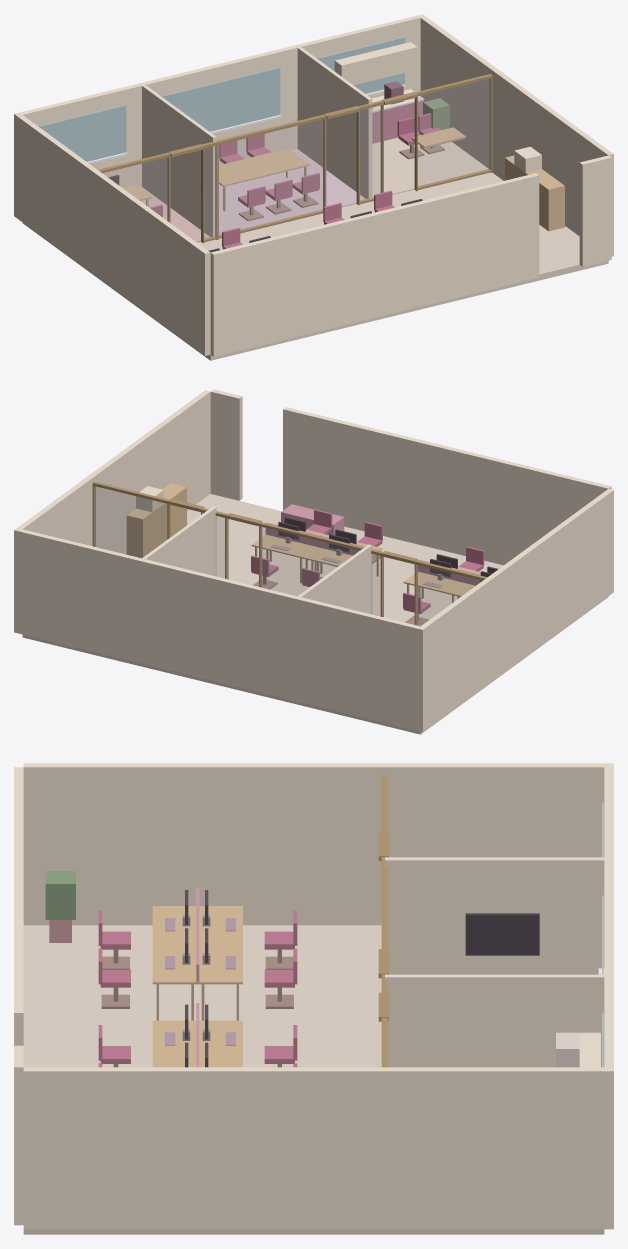
File: 사무실_모델.glb
3 renders of one model, top to bottom at view 1: azimuth 30°, elevation 25°; view 2: azimuth 150°, elevation 25°; view 3: azimuth 270°, elevation 25°, orthographic. The views are drawn at different scales.
Visible parts, largest first — view 1: 전면 벽 A, 유리 칸막이 (×5), 좌측 벽, 실간 칸막이 (×2), 우측 벽, 후면 벽, 가정 창호 (×3), 바닥, 회의실 바닥, 탕비실 바닥, 전면 벽 B, 탕비 상부장 (+8 smaller); view 2: 후면 벽, 전면 벽 A, 좌측 벽, 우측 벽, 유리 칸막이 (×5), 바닥, 실간 칸막이 (×2), 전면 벽 B, 공용 수납장, 입구 벤치, 직원 책상 8, 직원 책상 4 (+4 smaller); view 3: 우측 벽, 좌측 벽, 실간 칸막이 (×2), 바닥, 후면 벽, 회의실 화면, 전면 벽 A, 전면 벽 B, 직원 책상 3, 직원 책상 4, 식재, 직원 책상 5 (+6 smaller).
Part boxes in pixels (x1,y1,x2,y2): 전면 벽 A: [210, 173, 539, 356]; 유리 칸막이 (×5): [103, 79, 490, 237]; 좌측 벽: [17, 115, 210, 355]; 실간 칸막이 (×2): [142, 47, 372, 237]; 우측 벽: [420, 16, 613, 256]; 후면 벽: [14, 14, 425, 217]; 가정 창호 (×3): [39, 37, 404, 161]; 바닥: [23, 172, 608, 360]; 회의실 바닥: [219, 149, 365, 234]; 탕비실 바닥: [372, 132, 488, 197]; 전면 벽 B: [579, 155, 611, 266]; 탕비 상부장: [334, 42, 417, 85]; 후면 벽: [14, 528, 425, 731]; 전면 벽 A: [283, 407, 611, 565]; 좌측 벽: [421, 488, 613, 729]; 우측 벽: [17, 390, 210, 554]; 유리 칸막이 (×5): [93, 486, 481, 625]; 바닥: [22, 494, 608, 734]; 실간 칸막이 (×2): [142, 506, 372, 614]; 전면 벽 B: [210, 389, 242, 500]; 공용 수납장: [126, 483, 186, 558]; 입구 벤치: [281, 504, 344, 535]; 직원 책상 8: [251, 534, 315, 558]; 직원 책상 4: [403, 571, 467, 595]; 우측 벽: [23, 1067, 604, 1229]; 좌측 벽: [23, 763, 604, 925]; 실간 칸막이 (×2): [385, 857, 604, 1067]; 바닥: [23, 925, 604, 1234]; 후면 벽: [604, 763, 613, 1229]; 회의실 화면: [465, 913, 539, 955]; 전면 벽 A: [14, 767, 23, 1045]; 전면 벽 B: [14, 1045, 23, 1225]; 직원 책상 3: [152, 944, 197, 984]; 직원 책상 4: [198, 944, 242, 984]; 식재: [45, 871, 75, 919]; 직원 책상 5: [152, 1020, 196, 1058].
Bounding box in the file's own units: 11.3 × 2.86 × 9.3.
